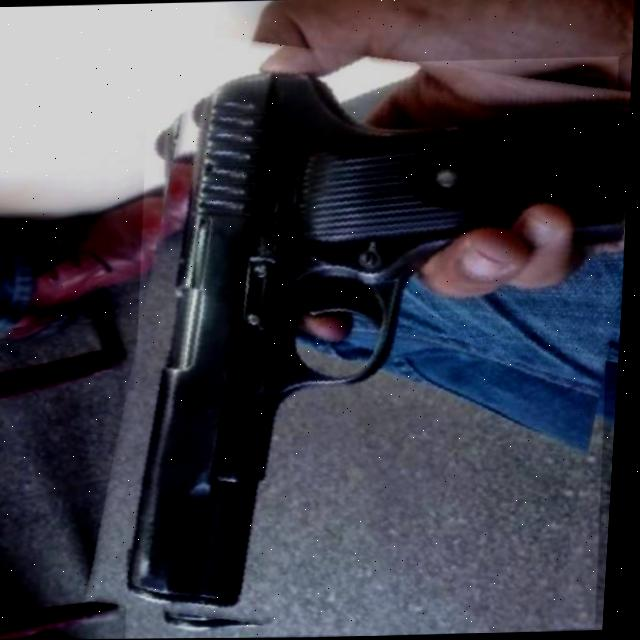pistol: (101, 39, 638, 639)
